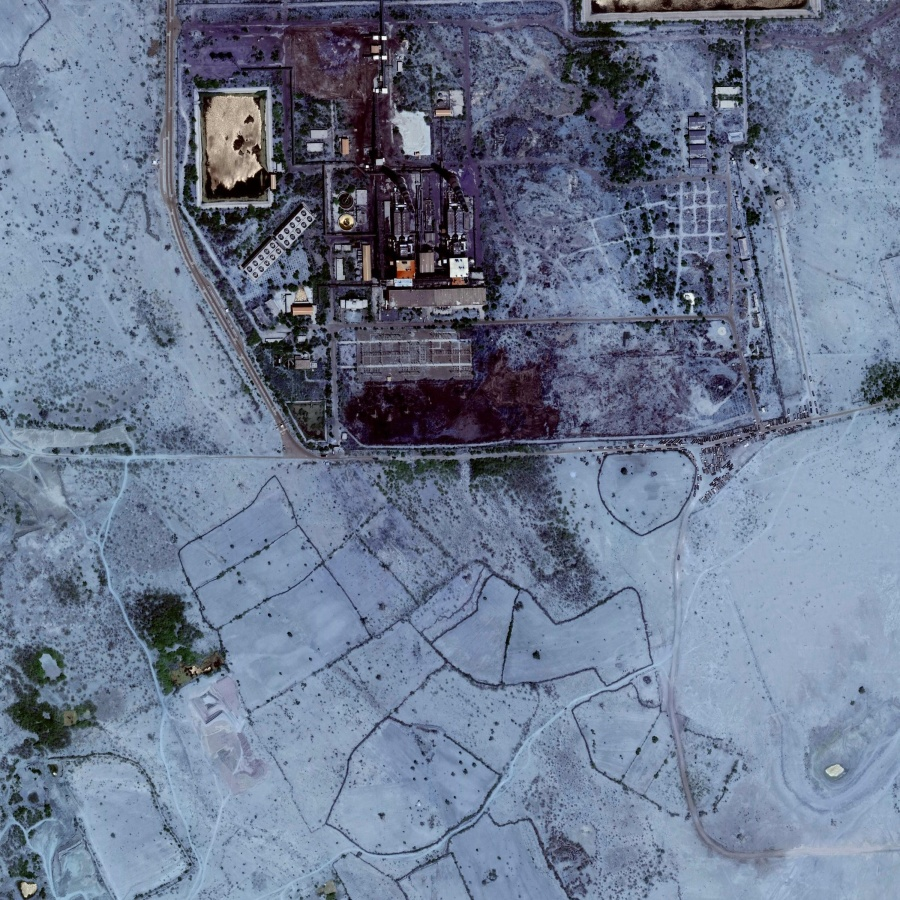PowerPlant: (182, 4, 552, 442)
